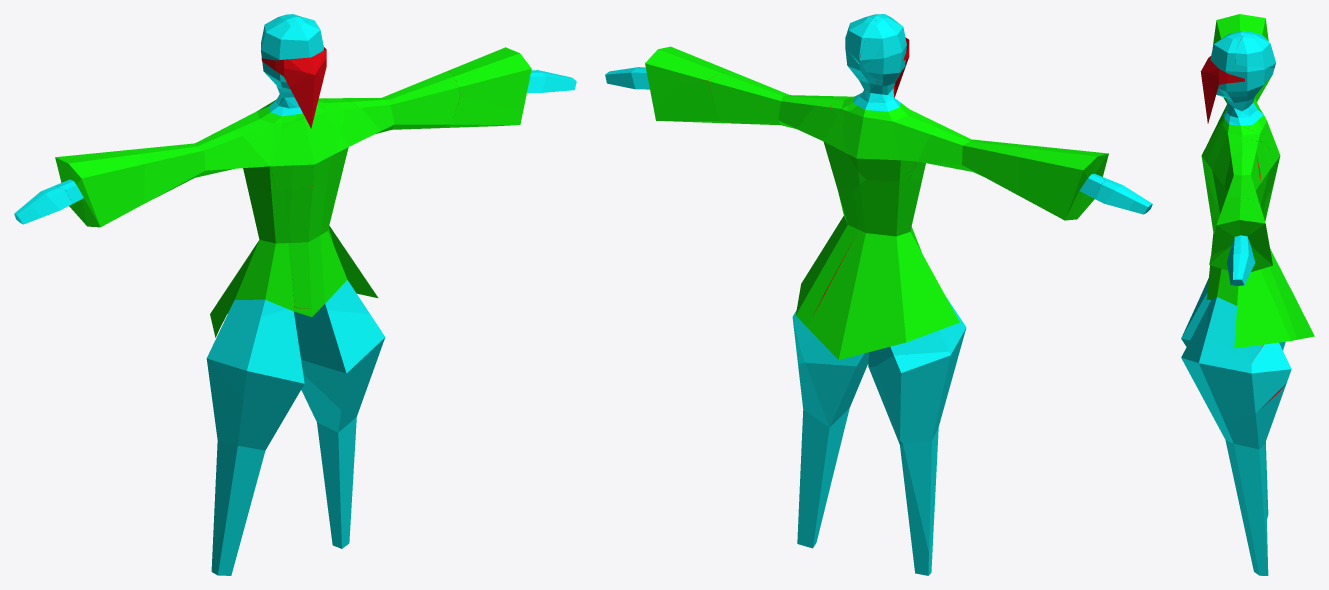
The model's file is JounenDestructable.fbx.
The picture shows the model from 3 angles, left to right: view 1: azimuth 30°, elevation 25°; view 2: azimuth 150°, elevation 25°; view 3: azimuth 270°, elevation 25°; orthographic projection. The views are drawn at different scales.
Parts seen in each view (by area): view 1: Sphere.001_cell.023, Sphere.001_cell.001, Sphere.001_cell.017, Sphere.001_cell.026, Sphere.001_cell.022, Sphere.001_cell.016, Sphere.001_cell.031, Sphere.001_cell.014, Sphere.001_cell.003, Sphere.001_cell.009, Sphere.001_cell.006, Sphere.001_cell.021 (+7 smaller); view 2: Sphere.001_cell.017, Sphere.001_cell.014, Sphere.001_cell.031, Sphere.001_cell.010, Sphere.001_cell.016, Sphere.001_cell.009, Sphere.001_cell.022, Sphere.001_cell.023, Sphere.001_cell.005, Sphere.001_cell.011, Sphere.001_cell.021, Sphere.001_cell.001 (+7 smaller); view 3: Sphere.001_cell.023, Sphere.001_cell.026, Sphere.001_cell.031, Sphere.001_cell.005, Sphere.001_cell.006, Sphere.001_cell.008, Sphere.001_cell.009, Sphere.001_cell.024, Sphere.001_cell.017, Sphere.001_cell.003, Sphere.001_cell.007, Sphere.001_cell.016 (+7 smaller).
Part boxes in pixels (x1,y1,x2,y2): Sphere.001_cell.023: (285,184,378,313); Sphere.001_cell.001: (208,307,318,416); Sphere.001_cell.017: (210,188,294,329); Sphere.001_cell.026: (294,309,385,410); Sphere.001_cell.022: (132,128,275,203); Sphere.001_cell.016: (55,149,144,227); Sphere.001_cell.031: (301,374,364,548); Sphere.001_cell.014: (206,355,267,549); Sphere.001_cell.003: (271,100,345,190); Sphere.001_cell.009: (342,71,460,133); Sphere.001_cell.006: (449,49,531,110); Sphere.001_cell.021: (211,413,284,575); Sphere.001_cell.017: (807,179,954,359); Sphere.001_cell.014: (875,351,955,552); Sphere.001_cell.031: (797,362,863,548); Sphere.001_cell.010: (842,79,936,181); Sphere.001_cell.016: (1016,146,1108,220); Sphere.001_cell.009: (708,71,821,128); Sphere.001_cell.022: (910,123,1037,194); Sphere.001_cell.023: (795,191,858,327); Sphere.001_cell.005: (797,96,865,190); Sphere.001_cell.011: (654,80,735,123); Sphere.001_cell.021: (868,366,934,575); Sphere.001_cell.001: (868,297,966,366); Sphere.001_cell.023: (1205,177,1297,363); Sphere.001_cell.026: (1181,306,1291,421); Sphere.001_cell.031: (1209,383,1286,575); Sphere.001_cell.005: (1206,141,1277,209); Sphere.001_cell.006: (1211,197,1263,254); Sphere.001_cell.008: (1227,216,1271,285); Sphere.001_cell.009: (1224,151,1260,201); Sphere.001_cell.024: (1218,64,1274,110); Sphere.001_cell.017: (1263,184,1314,339); Sphere.001_cell.003: (1201,117,1266,177); Sphere.001_cell.007: (1235,33,1275,67); Sphere.001_cell.016: (1212,14,1272,88).
Bounding box in the file's own units: 249 × 235 × 55.34.
